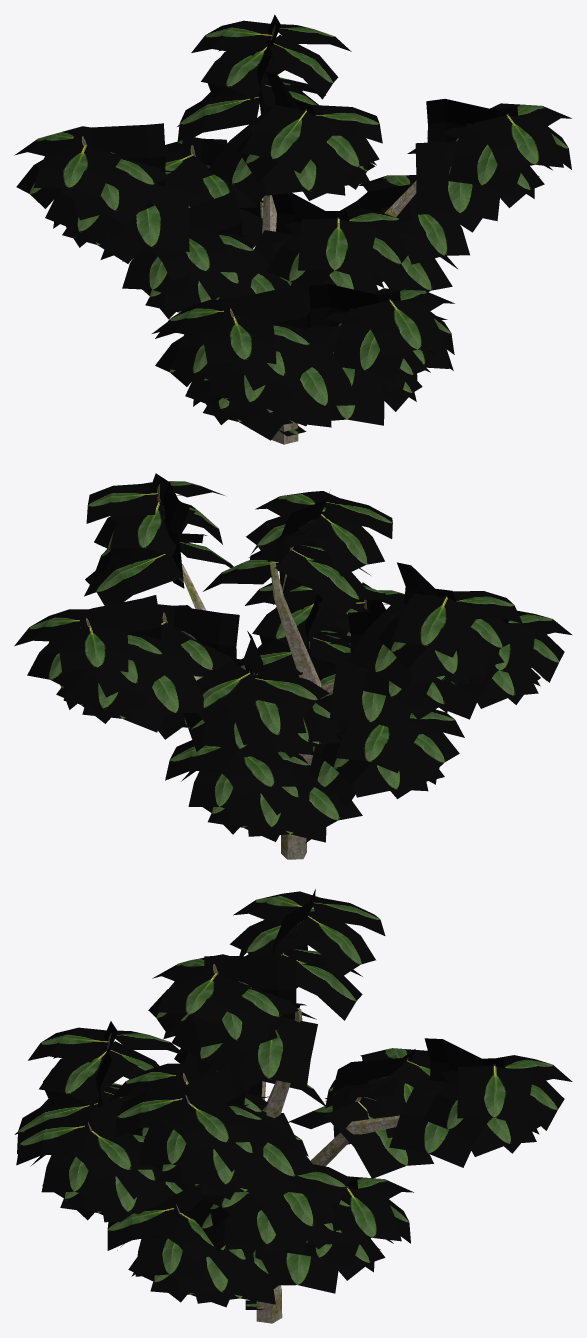
The model's file is Rhododendron.fbx.
3 views of the same model, one above another, from view 1: azimuth 30°, elevation 25°; view 2: azimuth 150°, elevation 25°; view 3: azimuth 270°, elevation 25° (orthographic). The views are drawn at different scales.
Parts seen in each view (by area): view 1: Branch.007, Branch, Branch.002, Branch.008, Branch.001, Branch.005, Branch.012, Branch.009, Branch.003, Branch.006, Branch.010, Branch.004 (+1 smaller); view 2: Branch.005, Branch.007, Branch.008, Branch.002, Branch.011, Branch.006, Branch.010, Branch.009, Branch.012, Branch, Branch.003, Trunk (+1 smaller); view 3: Branch.008, Branch.002, Branch.005, Branch.001, Branch.004, Branch.007, Branch.003, Branch.006, Branch, Branch.011, Branch.012, Trunk (+1 smaller).
Part boxes in pixels (box(x1,y1,x2,y2)): Branch.007: box(14, 123, 189, 263); Branch: box(155, 283, 358, 426); Branch.002: box(407, 99, 571, 221); Branch.008: box(207, 71, 382, 203); Branch.001: box(306, 283, 454, 405); Branch.005: box(177, 14, 351, 141); Branch.012: box(253, 193, 416, 315); Branch.009: box(100, 190, 289, 319); Branch.003: box(340, 175, 482, 291); Branch.006: box(165, 135, 263, 247); Branch.010: box(152, 322, 331, 440); Branch.004: box(306, 310, 453, 425); Branch.005: box(14, 595, 203, 732); Branch.007: box(347, 562, 522, 689); Branch.008: box(203, 491, 392, 617); Branch.002: box(84, 473, 233, 605); Branch.011: box(165, 740, 362, 842); Branch.006: box(183, 631, 341, 760); Branch.010: box(310, 709, 464, 806); Branch.009: box(329, 611, 483, 731); Branch.012: box(237, 580, 393, 675); Branch: box(438, 610, 572, 719); Branch.003: box(158, 604, 242, 739); Trunk: box(182, 562, 334, 859); Branch.008: box(148, 954, 317, 1092); Branch.002: box(114, 1061, 317, 1199); Branch.005: box(389, 1038, 572, 1167); Branch.001: box(16, 1095, 182, 1222); Branch.004: box(107, 1185, 278, 1307); Branch.007: box(230, 889, 385, 1020); Branch.003: box(188, 1164, 359, 1254); Branch.006: box(288, 1048, 433, 1178); Branch: box(14, 1021, 179, 1154); Branch.011: box(255, 1176, 413, 1293); Branch.012: box(108, 1063, 300, 1147); Trunk: box(256, 1008, 399, 1323).
Bounding box in the file's own units: 4029 × 2802 × 3944.
171 materials, 171 textured.
